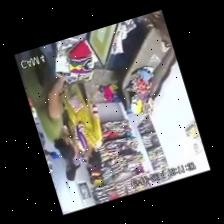person: (19, 44, 76, 158), (63, 82, 102, 167), (66, 149, 81, 180), (66, 150, 81, 180)
